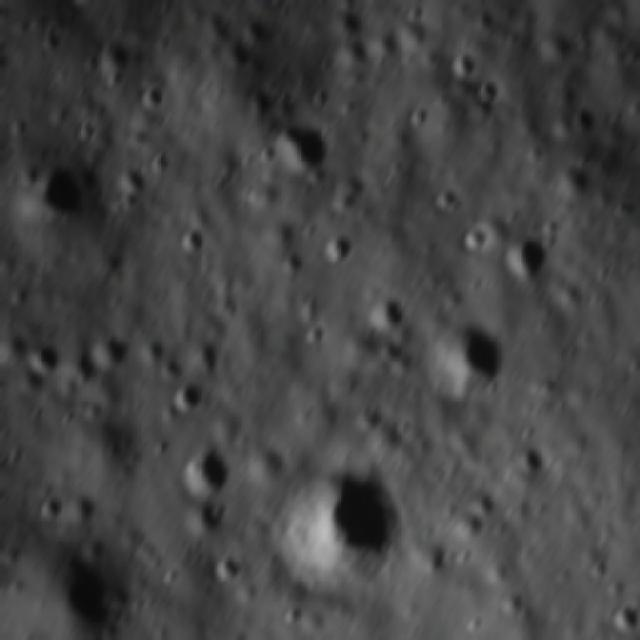crater: (268, 472, 410, 598), (31, 548, 138, 638), (431, 318, 506, 397), (25, 160, 83, 228), (172, 438, 233, 498), (272, 120, 338, 175), (496, 233, 552, 284), (89, 325, 134, 373), (323, 3, 377, 43), (364, 289, 411, 333), (550, 163, 595, 206), (185, 492, 227, 536), (167, 380, 207, 417), (24, 342, 64, 378), (113, 164, 150, 202), (607, 594, 640, 636), (240, 14, 278, 48), (68, 349, 105, 382), (459, 220, 488, 258), (443, 50, 482, 78), (98, 39, 131, 72), (565, 105, 598, 138), (429, 184, 462, 216), (467, 488, 498, 522), (322, 230, 352, 265), (297, 318, 326, 352), (212, 552, 243, 583), (511, 446, 542, 477), (138, 78, 164, 114), (243, 90, 275, 118), (175, 226, 207, 254), (38, 26, 67, 56), (73, 113, 101, 144), (35, 493, 62, 525), (473, 74, 499, 106), (278, 250, 307, 278), (252, 142, 276, 172), (80, 50, 98, 76), (102, 70, 125, 90), (0, 363, 5, 408)
